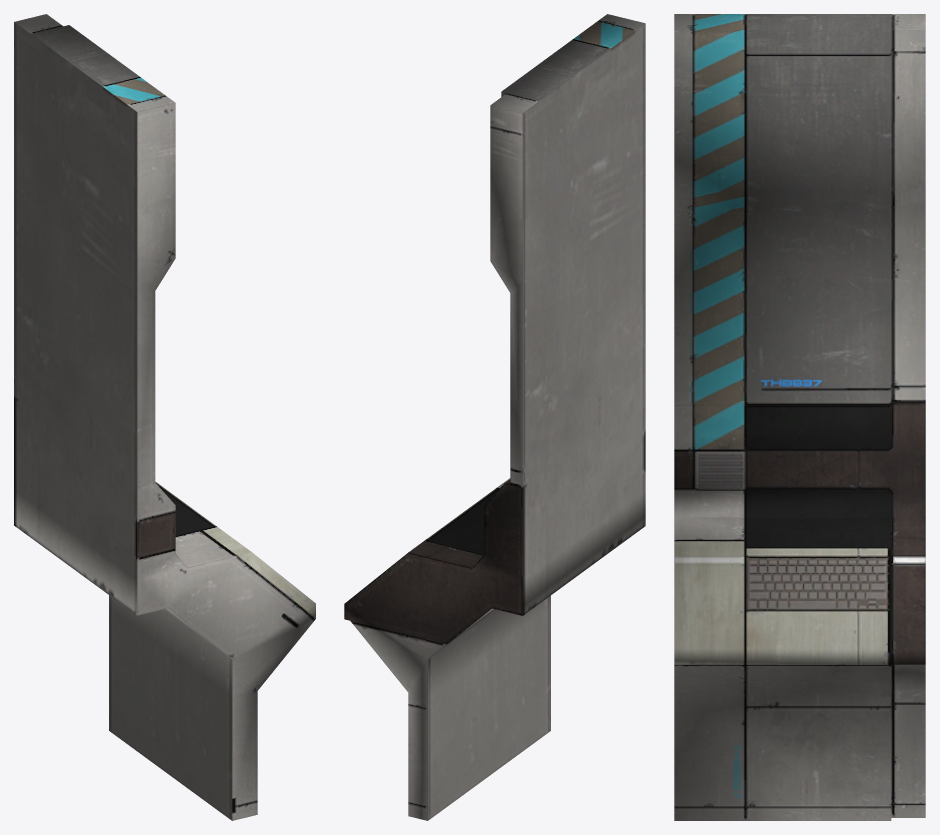
The model's file is ComputerWall01.FBX.
3 views of the same model, side by side, from view 1: azimuth 30°, elevation 25°; view 2: azimuth 150°, elevation 25°; view 3: azimuth 270°, elevation 25° (orthographic). The views are drawn at different scales.
Parts seen in each view (by area): view 1: ComputerWall01; view 2: ComputerWall01; view 3: ComputerWall01.
Boxes of the visible parts, x1,y1,x2,y2 form: ComputerWall01: [14, 14, 315, 820]; ComputerWall01: [344, 14, 645, 820]; ComputerWall01: [674, 14, 925, 820].
Size of the model in its own units: 0.7116 by 2.79 by 0.85.
